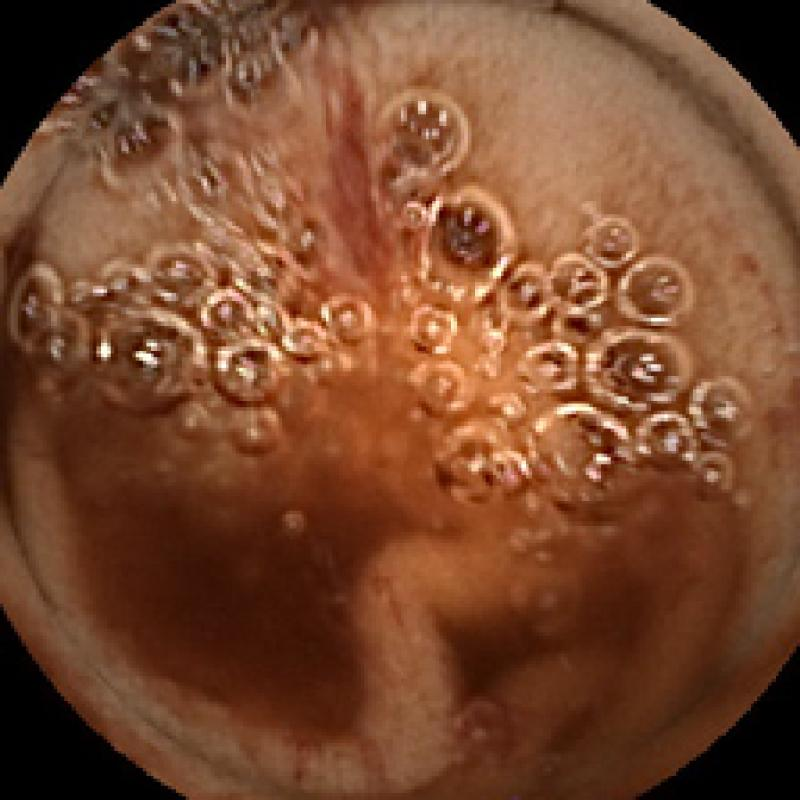bleeding: (321, 43, 436, 307)
